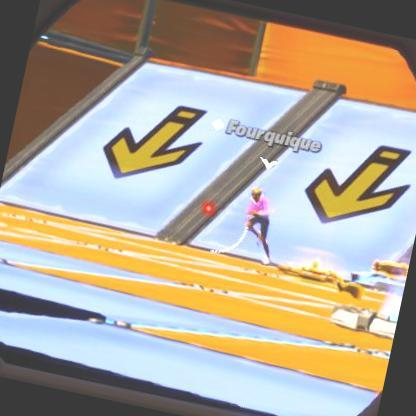person: (240, 188, 283, 269)
